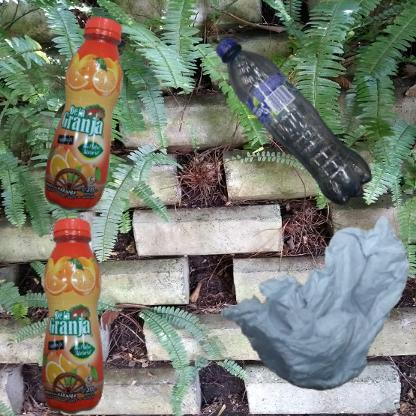botella: (10, 10, 211, 284), (213, 10, 398, 256), (10, 213, 160, 416)
papel: (213, 213, 416, 401)
